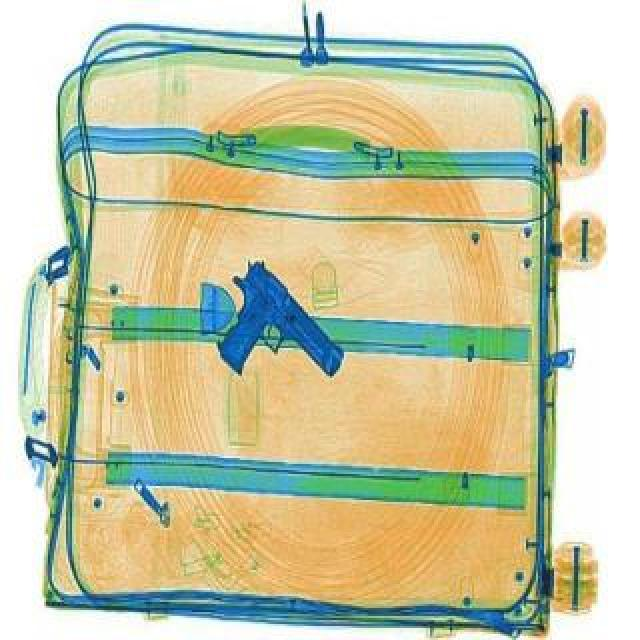gun: (176, 250, 350, 414)
